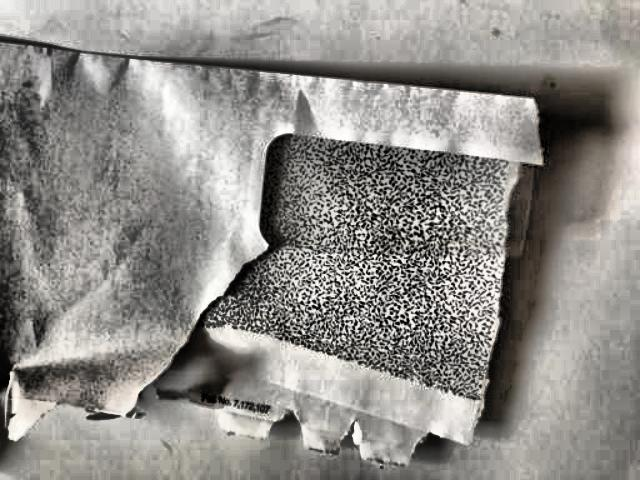Paper: (0, 21, 546, 466)
